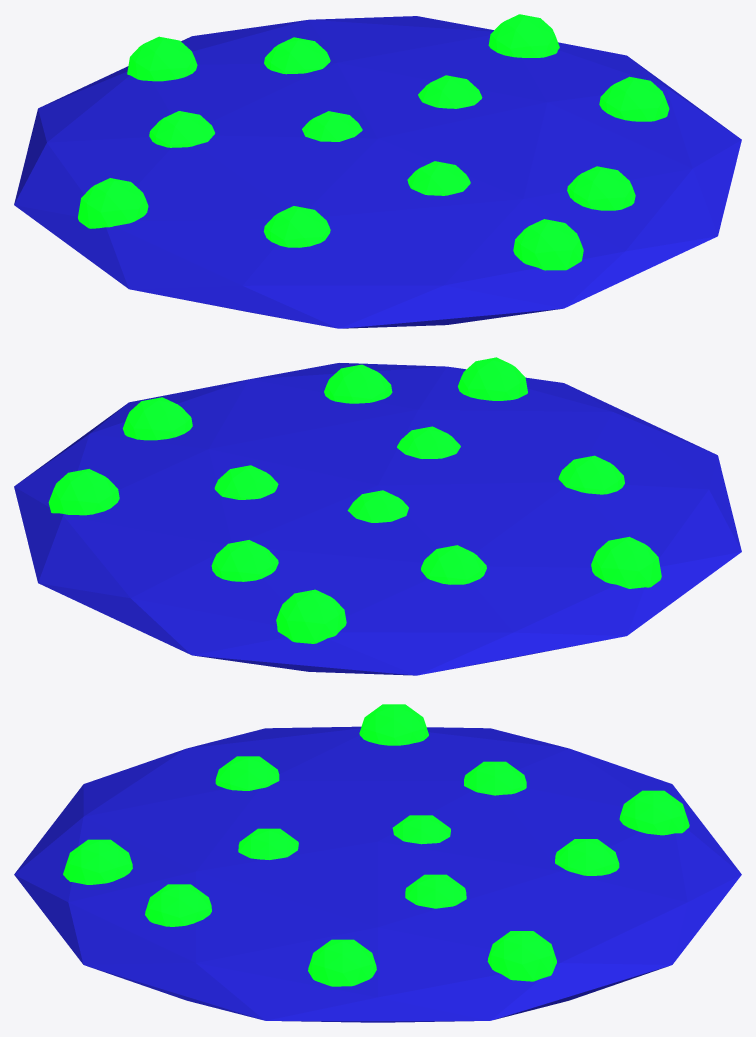
3 renders of one model, top to bottom at view 1: azimuth 30°, elevation 25°; view 2: azimuth 150°, elevation 25°; view 3: azimuth 270°, elevation 25°, orthographic. The views are drawn at different scales.
Visible parts, largest first — view 1: Icosphere, Icosphere.006, Icosphere.009, Icosphere.010, Icosphere.012, Icosphere.008, Icosphere.007, Icosphere.005, Icosphere.002, Icosphere.003, Icosphere.001, Icosphere.011 (+1 smaller); view 2: Icosphere, Icosphere.010, Icosphere.009, Icosphere.008, Icosphere.006, Icosphere.012, Icosphere.002, Icosphere.007, Icosphere.003, Icosphere.005, Icosphere.011, Icosphere.001 (+1 smaller); view 3: Icosphere, Icosphere.008, Icosphere.012, Icosphere.006, Icosphere.010, Icosphere.009, Icosphere.007, Icosphere.002, Icosphere.005, Icosphere.003, Icosphere.011, Icosphere.001 (+1 smaller).
Part boxes in pixels (box(x1,y1,x2,y2)): Icosphere: box(14, 16, 741, 328); Icosphere.006: box(513, 219, 583, 270); Icosphere.009: box(78, 178, 148, 228); Icosphere.010: box(127, 36, 197, 81); Icosphere.012: box(599, 76, 669, 121); Icosphere.008: box(488, 14, 559, 57); Icosphere.007: box(567, 166, 635, 210); Icosphere.005: box(263, 206, 330, 247); Icosphere.002: box(264, 37, 330, 74); Icosphere.003: box(149, 111, 214, 147); Icosphere.001: box(407, 161, 470, 195); Icosphere.011: box(418, 75, 482, 108); Icosphere: box(14, 363, 741, 675); Icosphere.010: box(276, 589, 346, 643); Icosphere.009: box(591, 536, 661, 588); Icosphere.008: box(48, 469, 119, 515); Icosphere.006: box(458, 357, 527, 400); Icosphere.012: box(122, 397, 192, 440); Icosphere.002: box(211, 540, 278, 581); Icosphere.007: box(324, 364, 392, 403); Icosphere.003: box(421, 545, 486, 584); Icosphere.005: box(558, 455, 624, 494); Icosphere.011: box(214, 465, 278, 499); Icosphere.001: box(397, 426, 460, 458); Icosphere: box(14, 726, 741, 1022); Icosphere.008: box(487, 931, 556, 981); Icosphere.012: box(308, 939, 376, 986); Icosphere.006: box(63, 839, 132, 884); Icosphere.010: box(619, 790, 689, 835); Icosphere.009: box(359, 704, 428, 745); Icosphere.007: box(145, 884, 211, 926); Icosphere.002: box(555, 839, 619, 875); Icosphere.005: box(215, 756, 279, 790); Icosphere.003: box(464, 761, 526, 795); Icosphere.011: box(405, 874, 466, 908); Icosphere.001: box(238, 828, 298, 859).
Size of the model in its own units: 0.9511 by 0.1208 by 1.
